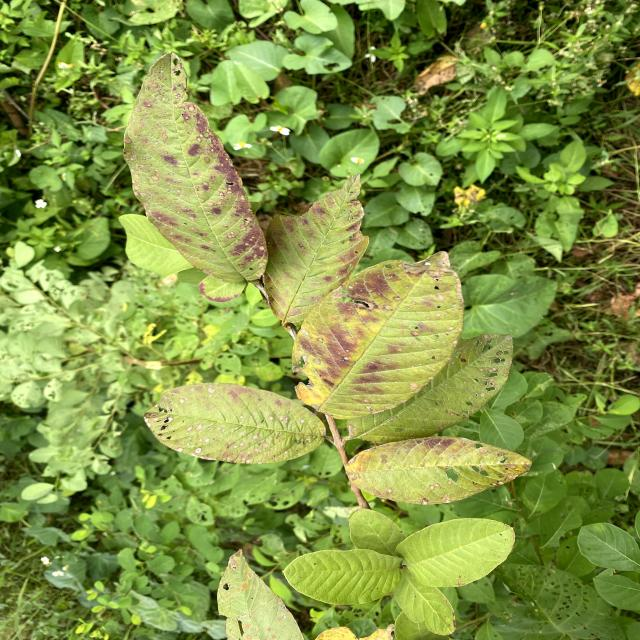Dot: (125, 52, 268, 284), (293, 251, 463, 419), (347, 335, 513, 444), (263, 175, 368, 325), (145, 382, 325, 464), (345, 436, 532, 504)
